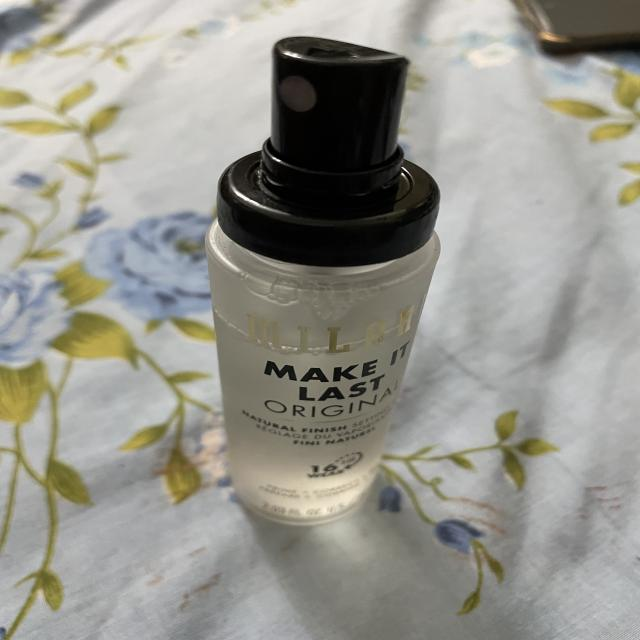setting spray: (148, 28, 470, 543)
